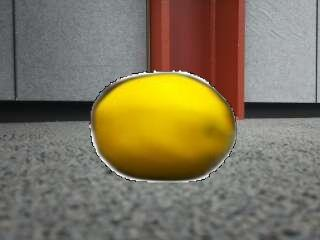lemon: (95, 75, 233, 181)
